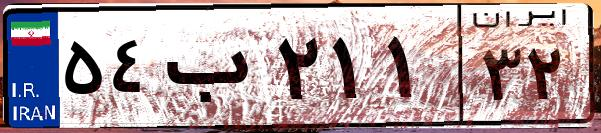1: (385, 28, 445, 110), (330, 28, 385, 110)
2: (270, 28, 330, 110), (525, 38, 570, 115)
3: (475, 38, 525, 113)
4: (110, 28, 158, 98)
5: (57, 26, 110, 100)
ب: (158, 20, 270, 120)
